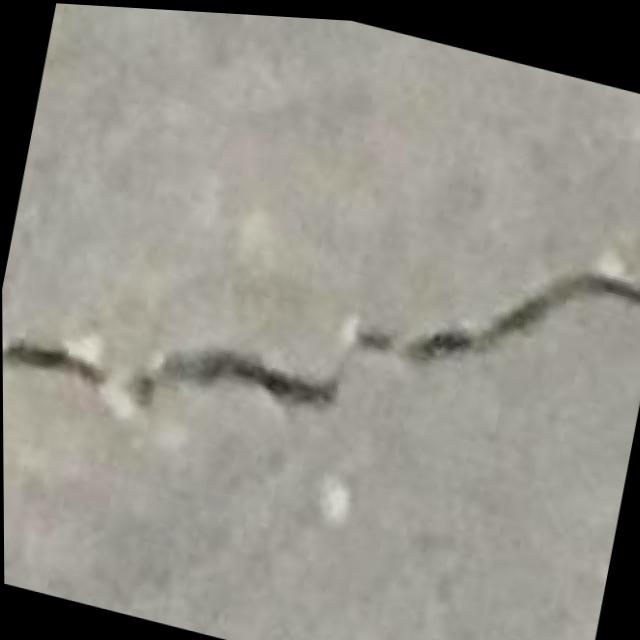Crack: (1, 122, 640, 545)
